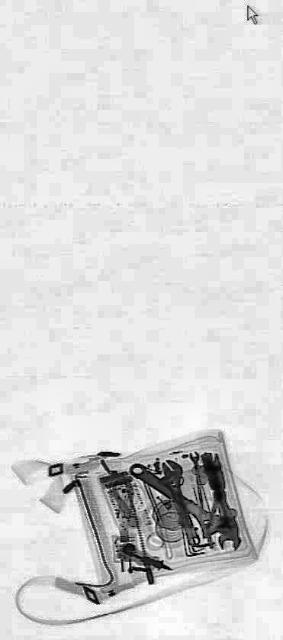Wrench: (126, 444, 240, 556), (158, 444, 204, 556), (208, 454, 238, 554), (188, 447, 206, 509)
